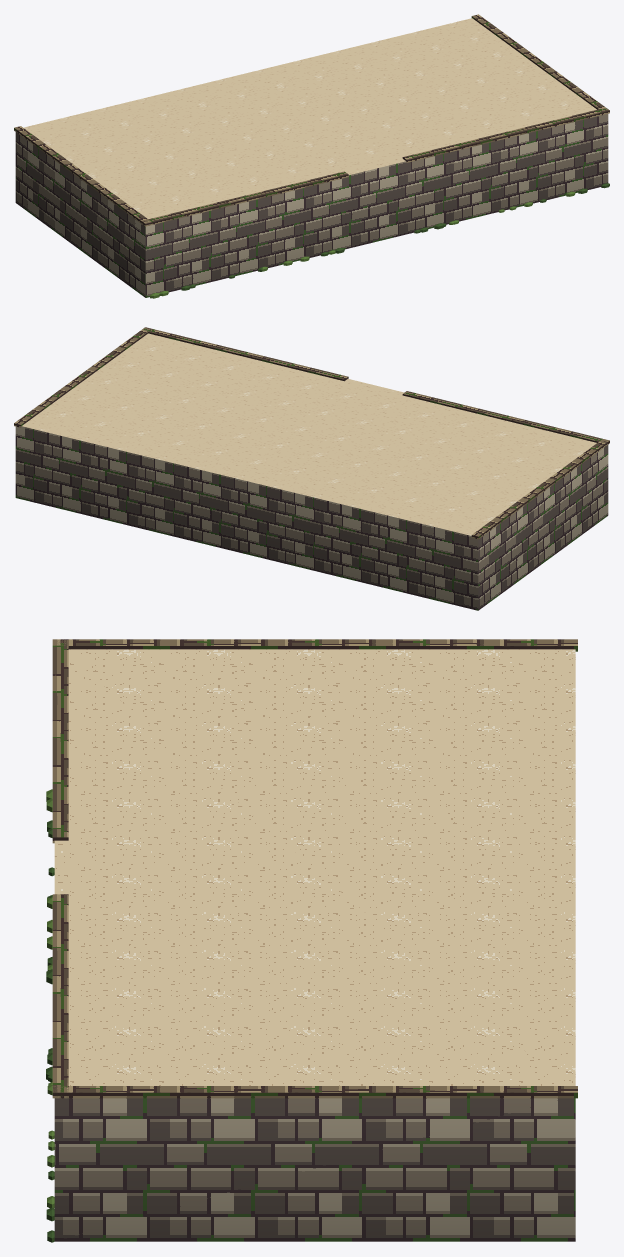
File: scene_plat_b9.glb
3 views of the same model, one above another, from view 1: azimuth 30°, elevation 25°; view 2: azimuth 150°, elevation 25°; view 3: azimuth 270°, elevation 25° (orthographic). The views are drawn at different scales.
Visible parts, largest first — view 1: scene_plat_b9; view 2: scene_plat_b9; view 3: scene_plat_b9.
Boxes of the visible parts, <box> form: scene_plat_b9: <box>14,14,609,298</box>; scene_plat_b9: <box>14,327,609,610</box>; scene_plat_b9: <box>46,639,577,1242</box>.
Size of the model in its own units: 23.9 by 3.77 by 11.84.
3 materials, 2 textured.
